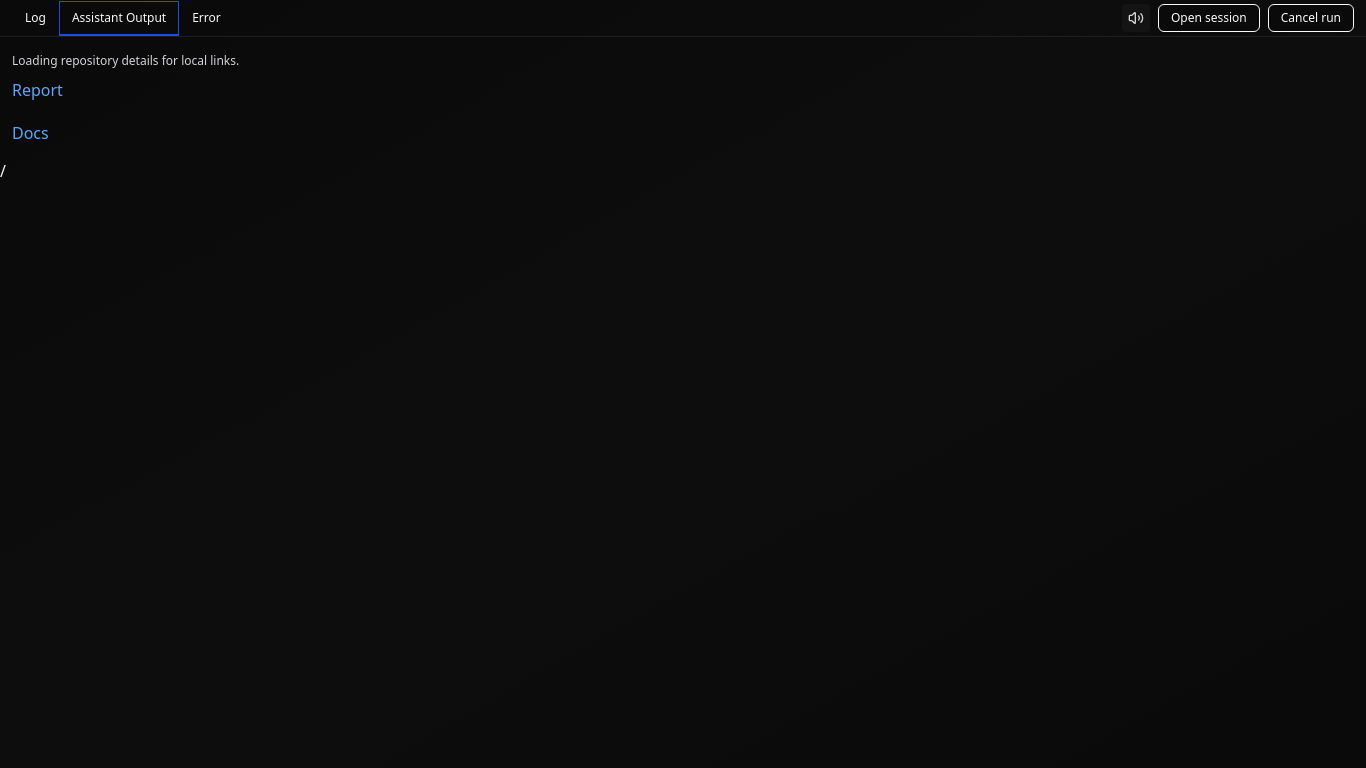
RunDetailPanel open session › opens the original session while a worktree run is still running
Click the button "Open session": (1209, 18) [1158,4,1260,32]
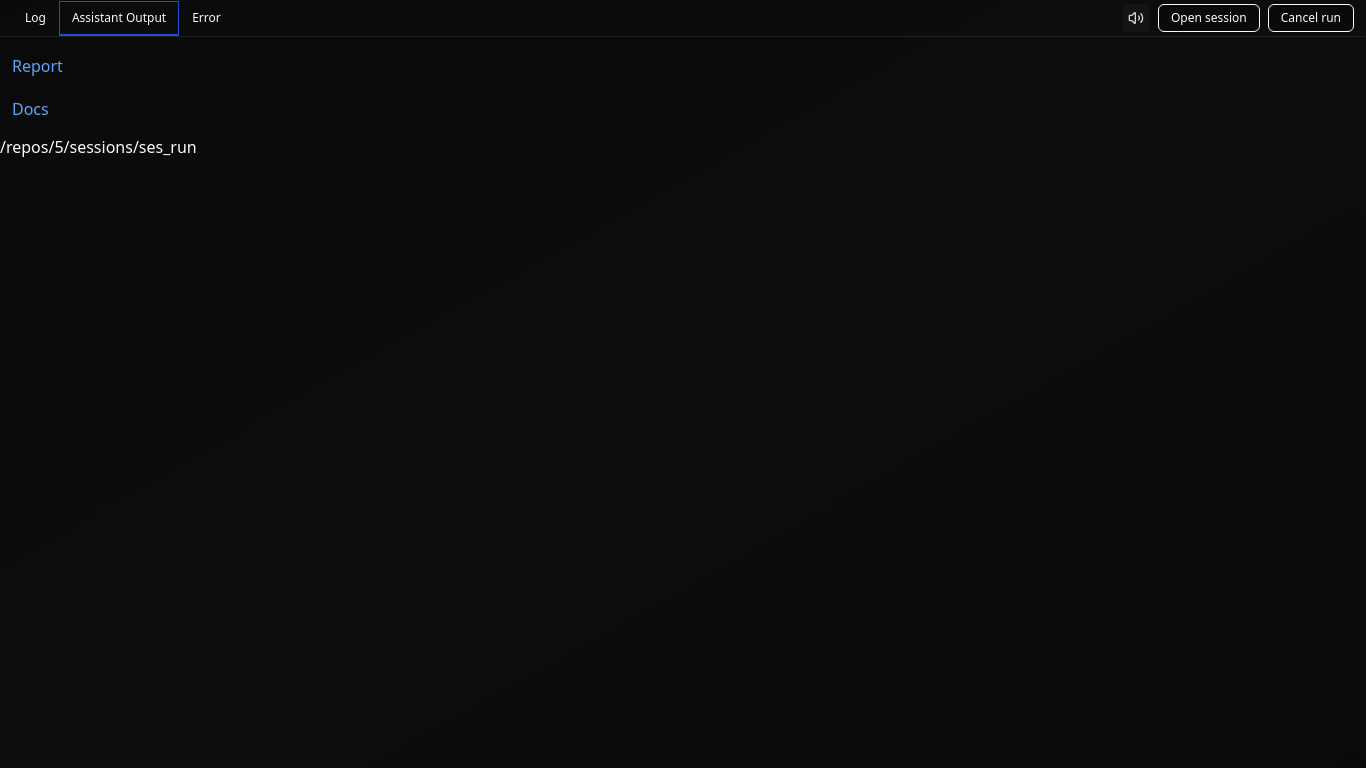
Result: the text with test id "location" reads "/repos/5/sessions/ses_run" at [0,136,197,158]
